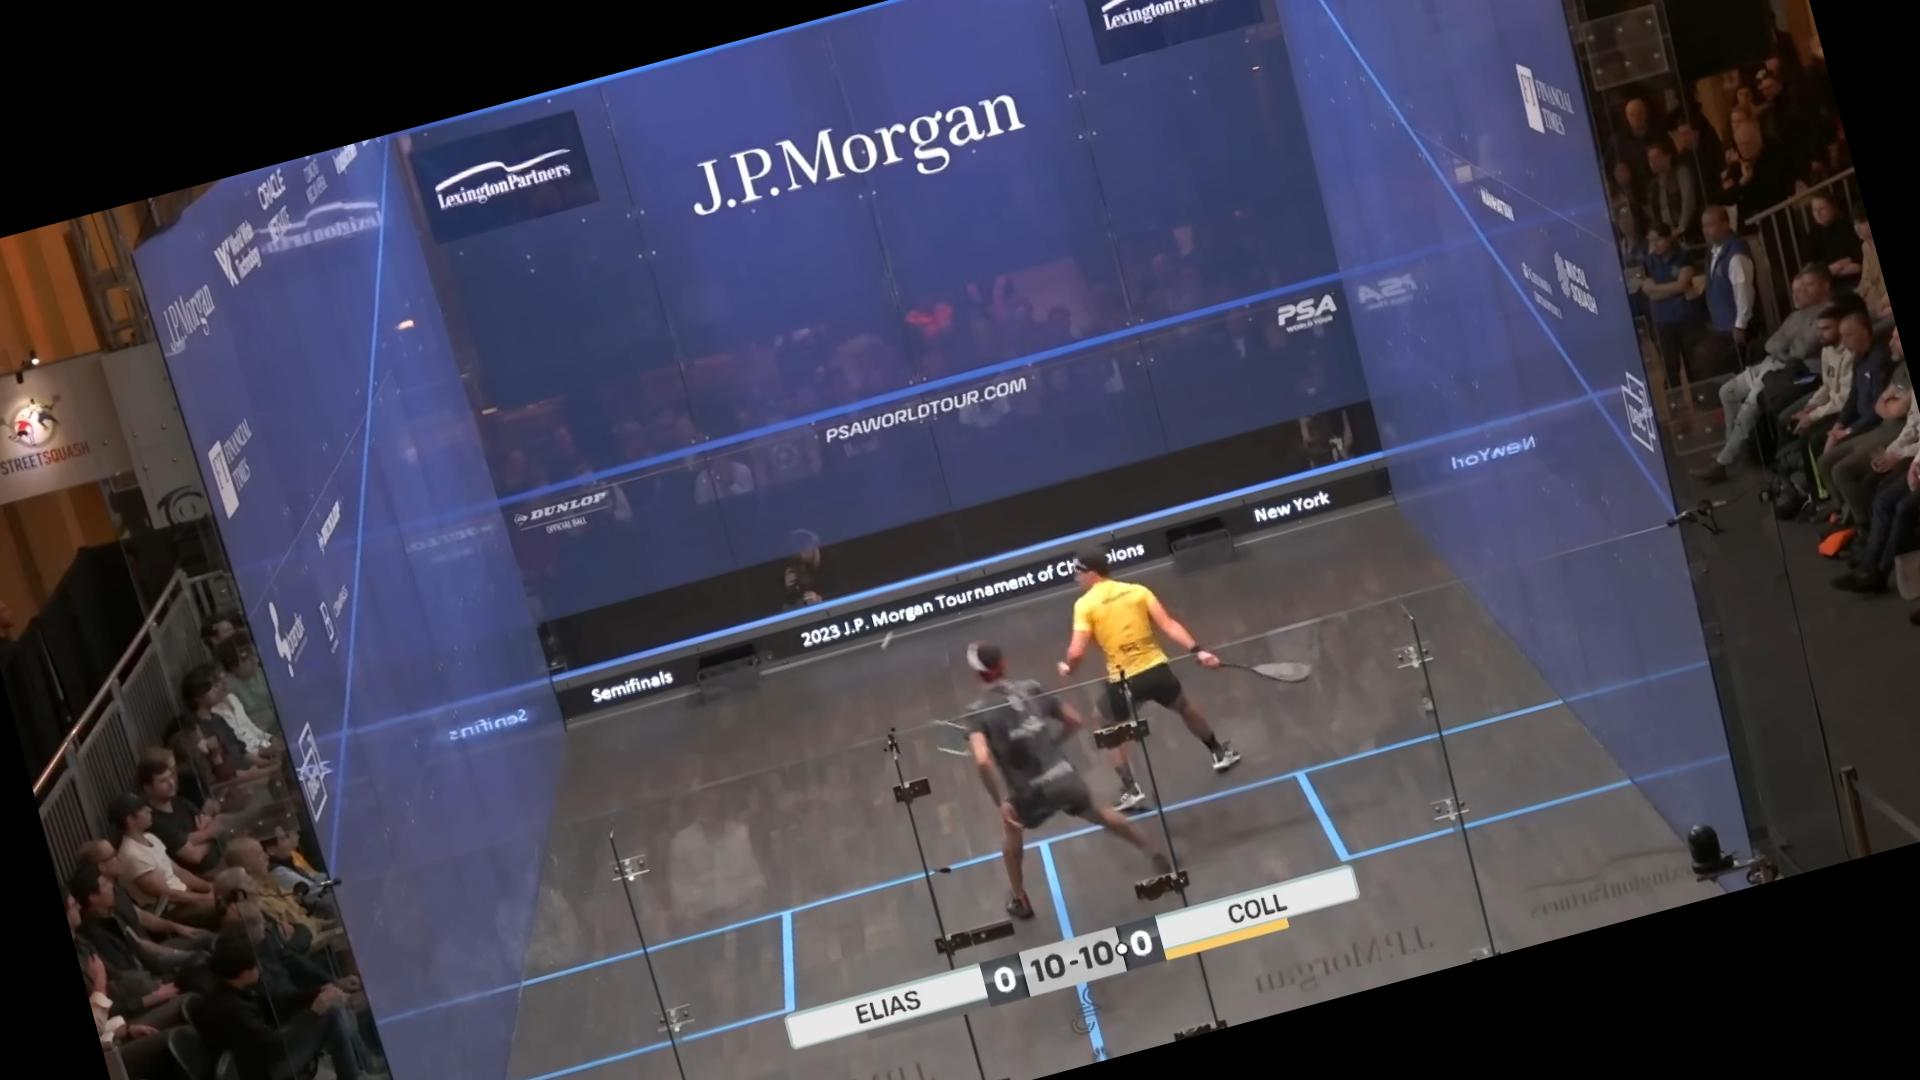Racket: (1221, 634, 1319, 708)
